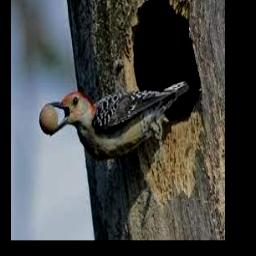Woodpecker: (45, 79, 190, 161)
